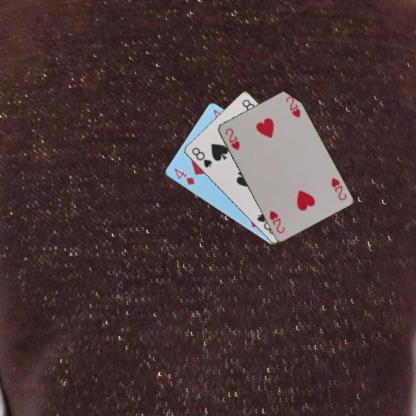2h: (328, 175, 348, 202), (222, 126, 241, 152)
4d: (171, 165, 196, 186)
8s: (189, 144, 213, 169)
